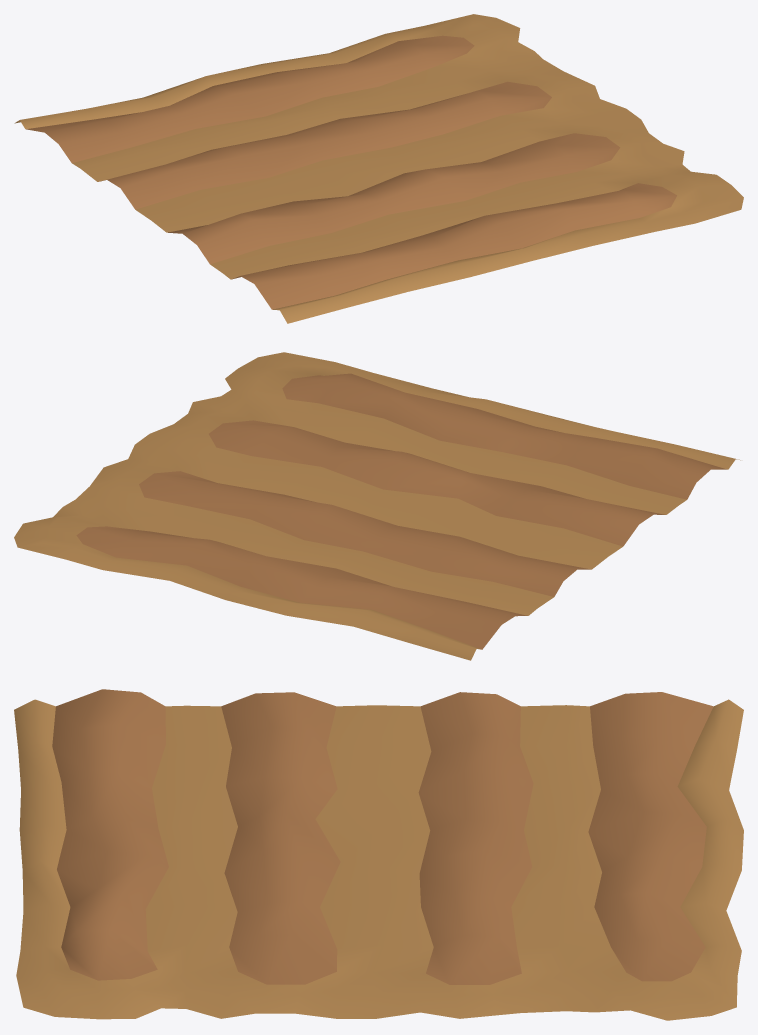
Rendered from Building_model_0_Fieldfrontrightleftedge001.fbx.
3 views of the same model, one above another, from view 1: azimuth 30°, elevation 25°; view 2: azimuth 150°, elevation 25°; view 3: azimuth 270°, elevation 25° (orthographic). The views are drawn at different scales.
Parts seen in each view (by area): view 1: Building_model_0_Fieldfrontrightleftedge001; view 2: Building_model_0_Fieldfrontrightleftedge001; view 3: Building_model_0_Fieldfrontrightleftedge001.
Boxes of the visible parts, x1,y1,x2,y2 form: Building_model_0_Fieldfrontrightleftedge001: (14,14,743,323); Building_model_0_Fieldfrontrightleftedge001: (14,352,740,660); Building_model_0_Fieldfrontrightleftedge001: (14,689,743,1020).
Size of the model in its own units: 2.9 by 0.1042 by 2.88.
